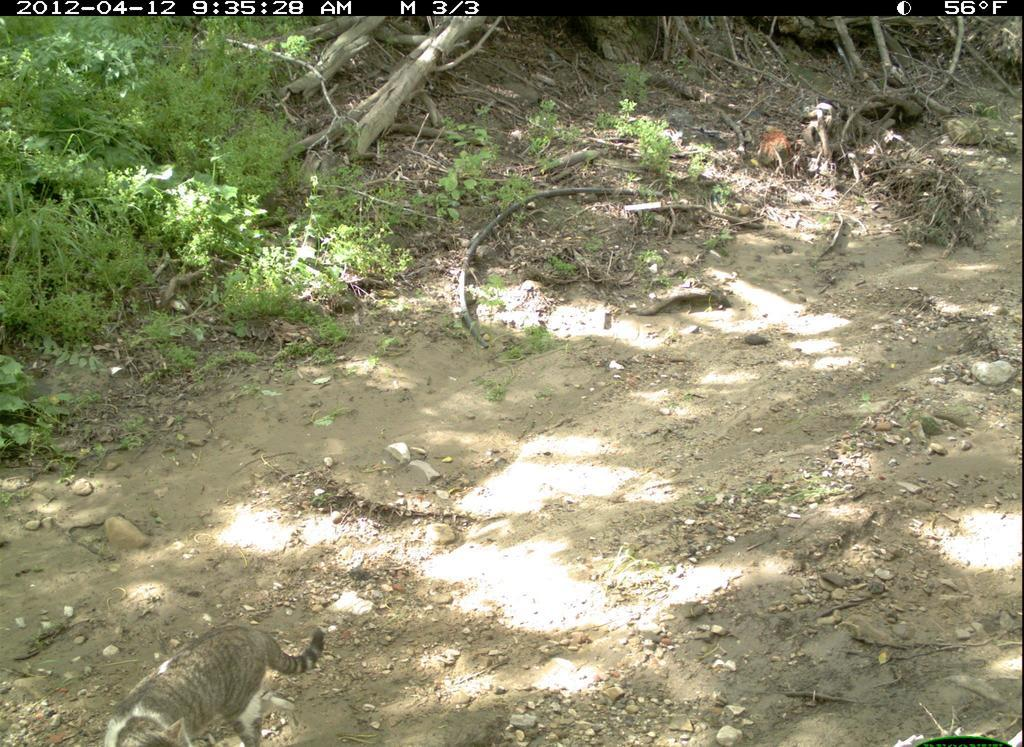cat: (100, 619, 328, 747)
